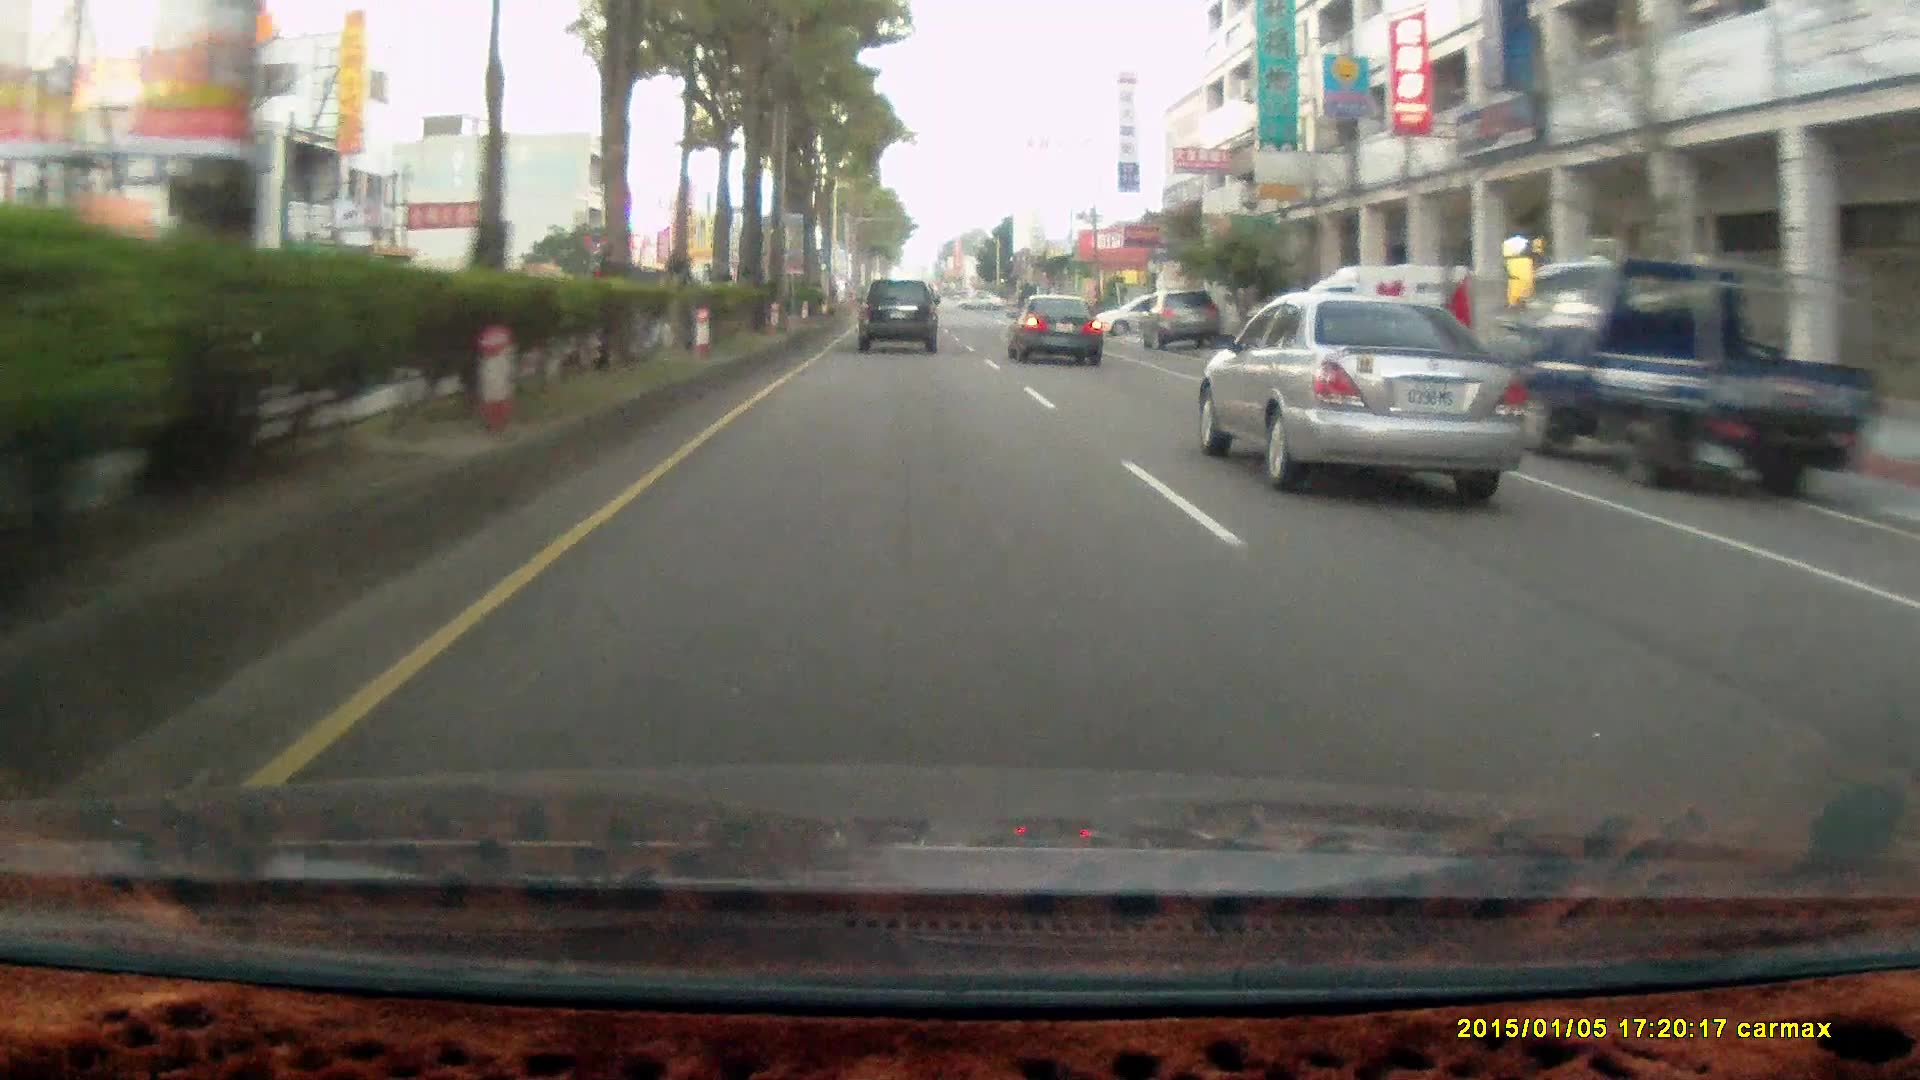vehicle: (1482, 258, 1873, 502), (1513, 258, 1873, 501), (1204, 289, 1532, 495), (1294, 262, 1476, 382), (1295, 264, 1477, 382), (1005, 293, 1106, 368), (1007, 291, 1102, 363), (857, 282, 943, 360), (856, 277, 938, 352), (1145, 290, 1224, 353)
